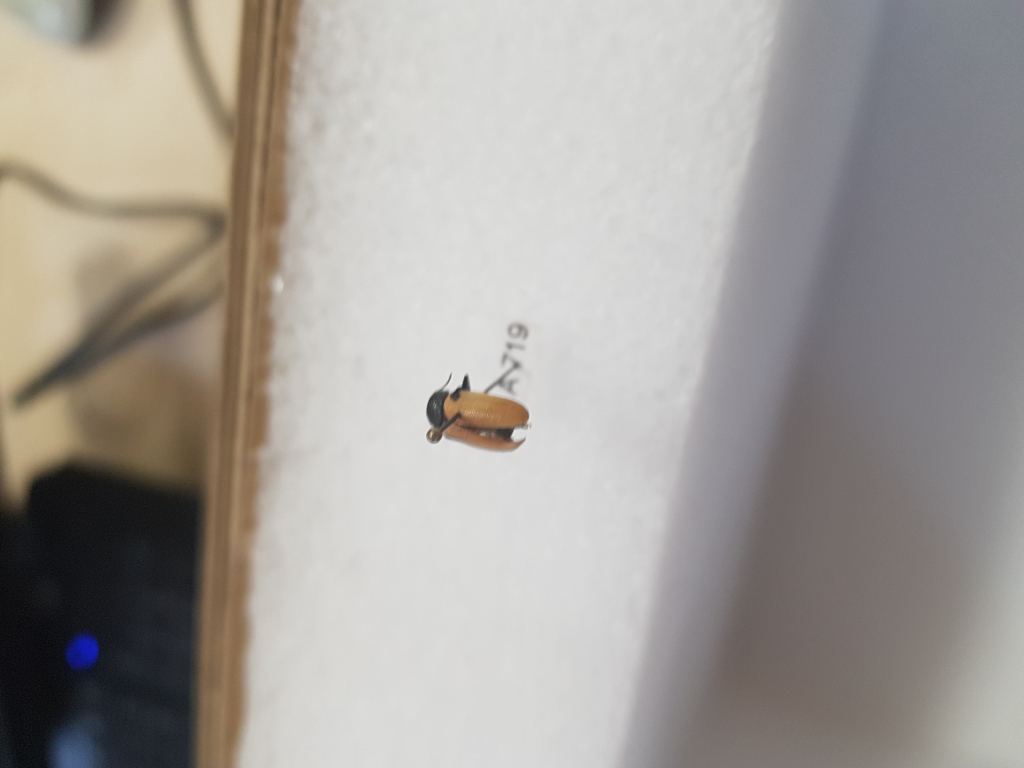Labidostomis_propinqua: (423, 365, 534, 457)
